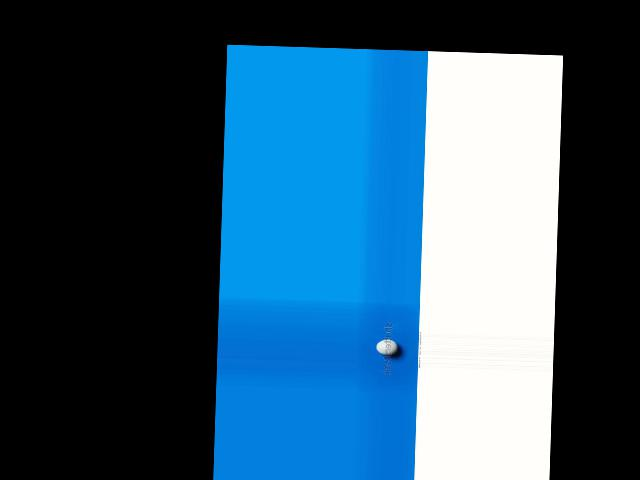egg: (375, 339, 398, 355)
